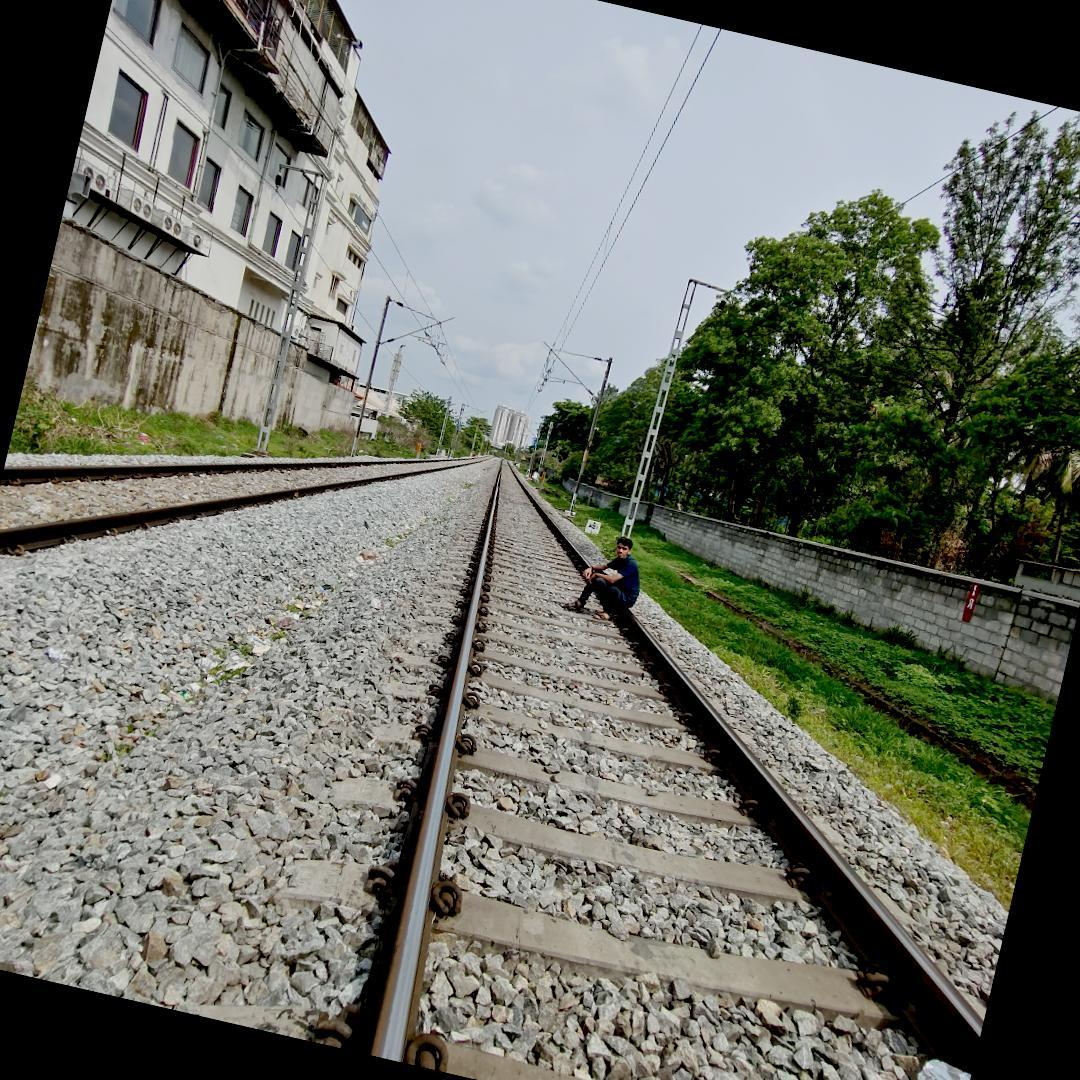sitting: (546, 525, 650, 641)
track: (237, 453, 1003, 1080)
